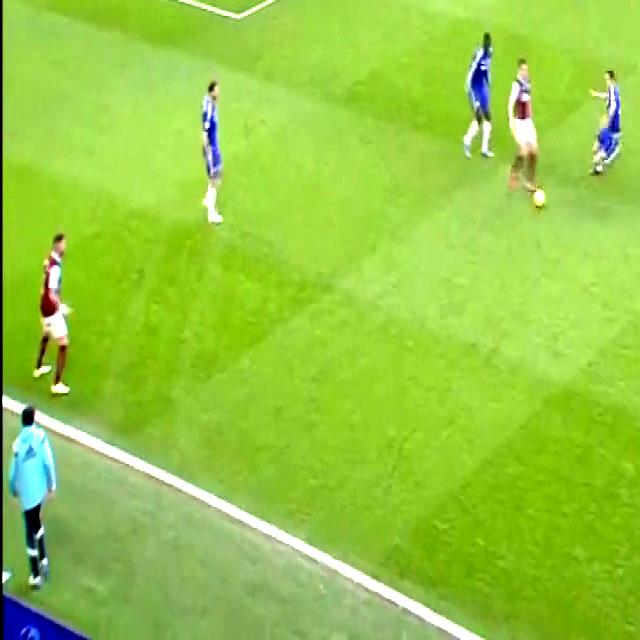ball: (535, 182, 551, 217)
soccer-player: (26, 221, 78, 409), (186, 64, 231, 224), (454, 20, 500, 166), (508, 46, 549, 194), (585, 56, 628, 182)
